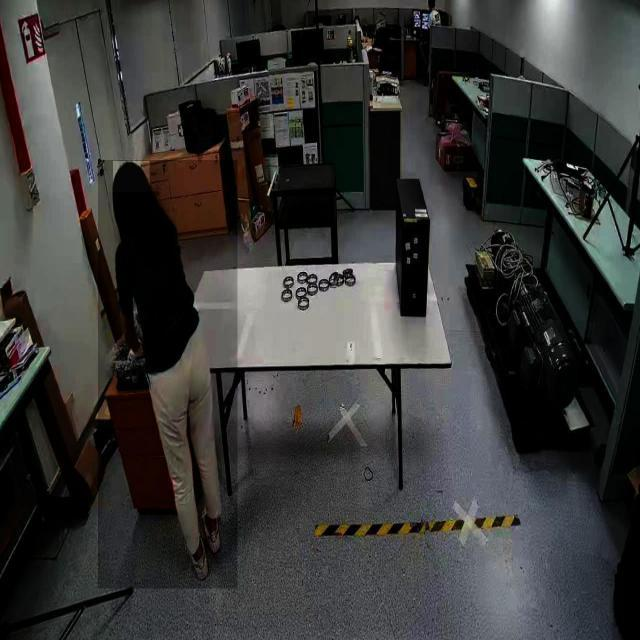boots: (181, 523, 209, 580), (201, 504, 222, 556)
